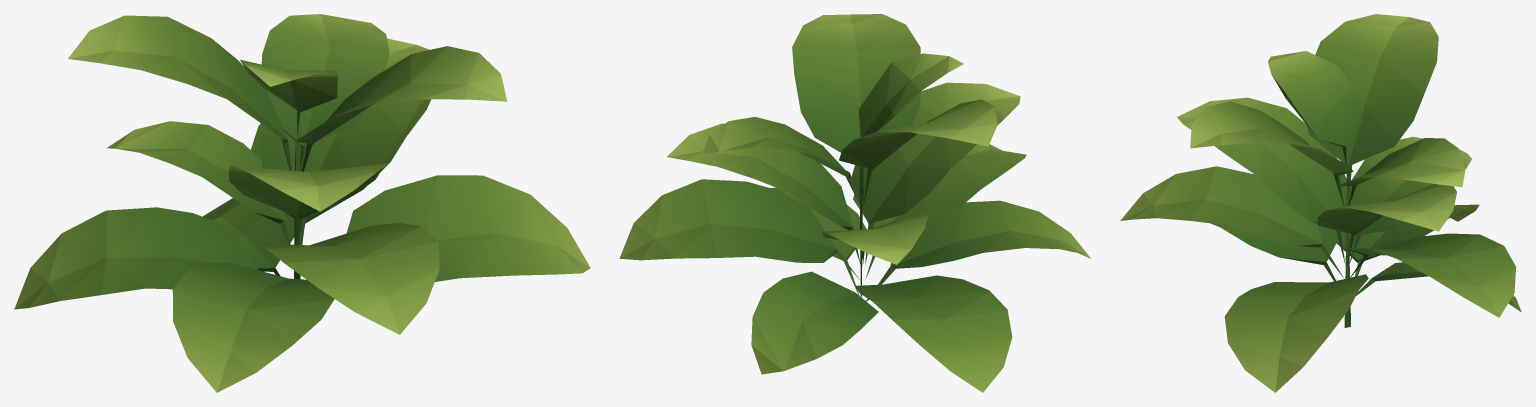
The model's file is Summer_Plant_02.glb.
3 views of the same model, side by side, from view 1: azimuth 30°, elevation 25°; view 2: azimuth 150°, elevation 25°; view 3: azimuth 270°, elevation 25° (orthographic). The views are drawn at different scales.
Visible parts, largest first — view 1: Summer_Plant_02_LOD0; view 2: Summer_Plant_02_LOD0; view 3: Summer_Plant_02_LOD0.
Boxes of the visible parts, <box> form: Summer_Plant_02_LOD0: <box>14,14,590,392</box>; Summer_Plant_02_LOD0: <box>619,14,1090,392</box>; Summer_Plant_02_LOD0: <box>1120,14,1521,392</box>.
Size of what is drawn, in the model's own units: 0.8784 by 0.5518 by 0.8161.
1 material, 1 textured.
